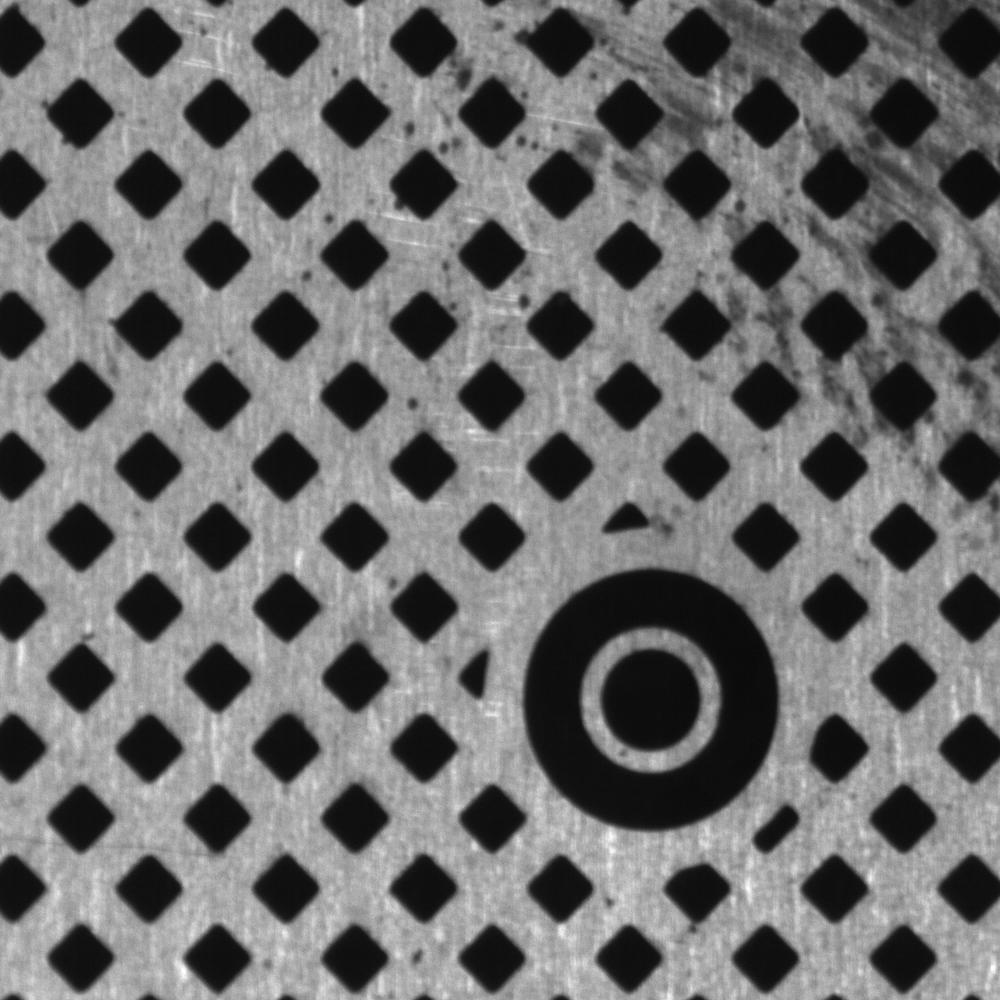Discolor: (821, 153, 996, 527), (704, 2, 996, 133), (545, 1, 698, 185), (715, 149, 811, 431)
Scar: (1, 821, 228, 871)
